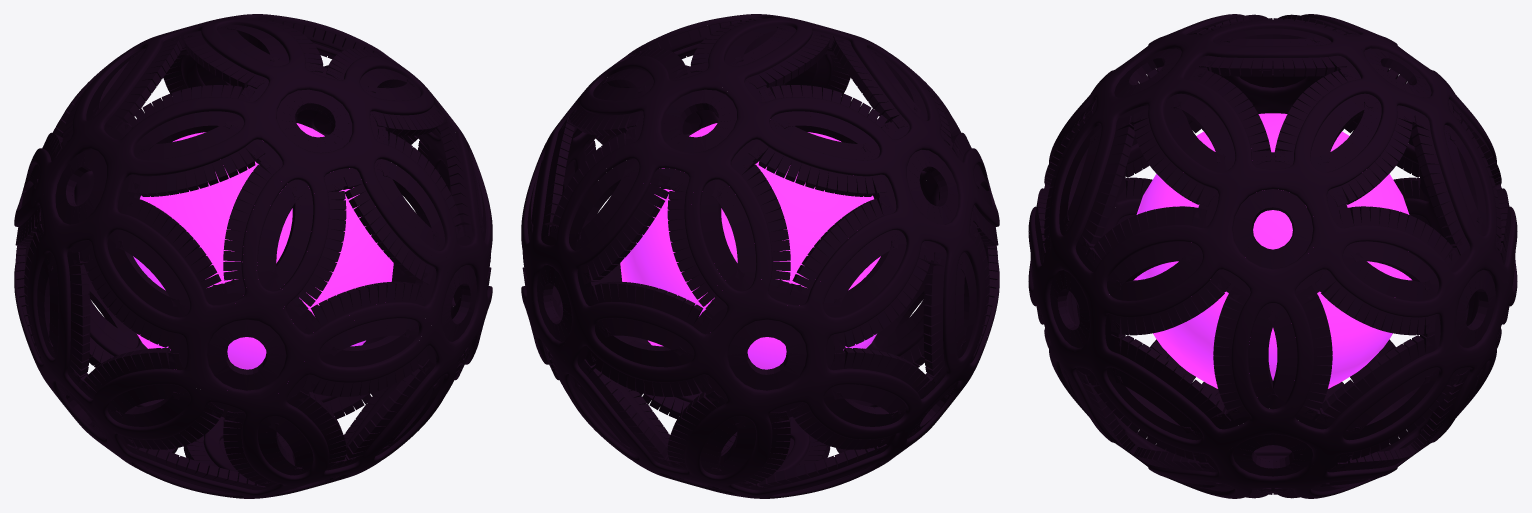
The picture shows the model from 3 angles, left to right: view 1: azimuth 30°, elevation 25°; view 2: azimuth 150°, elevation 25°; view 3: azimuth 270°, elevation 25°; orthographic projection.
Visible parts, largest first — view 1: Hedra001, Sphere001; view 2: Hedra001, Sphere001; view 3: Hedra001, Sphere001.
Boxes of the visible parts, x1,y1,x2,y2 form: Hedra001: [14, 14, 492, 498]; Sphere001: [133, 123, 393, 369]; Hedra001: [521, 14, 999, 498]; Sphere001: [620, 123, 880, 369]; Hedra001: [1028, 14, 1517, 498]; Sphere001: [1133, 113, 1411, 388].
Size of the model in its own units: 65.53 by 65.53 by 65.53.
